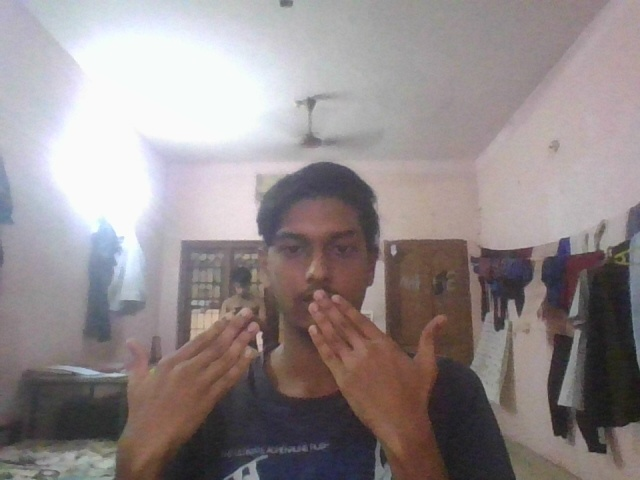thankyou: (120, 287, 447, 450)
